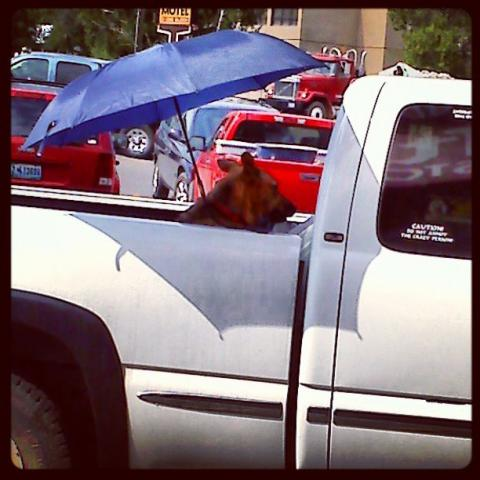car: (194, 114, 336, 213), (6, 82, 120, 195), (152, 101, 279, 202), (8, 53, 105, 84)
truck: (7, 61, 474, 471), (185, 110, 336, 218), (10, 53, 163, 159), (257, 51, 356, 117)
